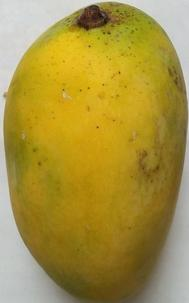PartiallyRipe: (1, 0, 189, 303)
